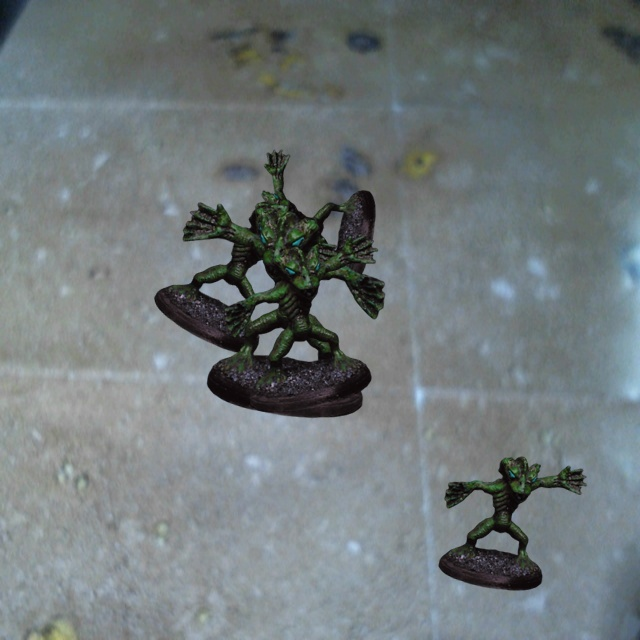pieza_juego: (186, 202, 384, 417), (224, 234, 377, 412), (154, 208, 337, 352), (438, 456, 586, 590), (255, 149, 375, 283)
